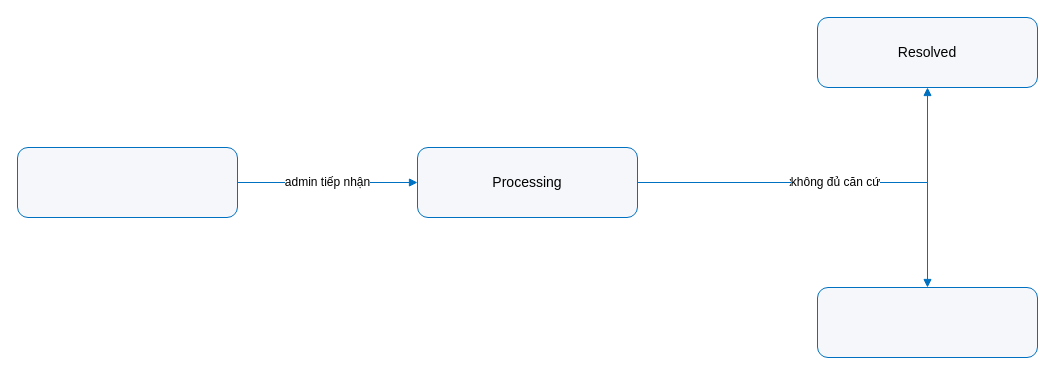
This 1055x375 diagram has some shape labels left out. Here are the shapes that lost their labels. From the top down, the centre of each, then its label:
the point at 127,182: Pending
the point at 927,322: Rejected
